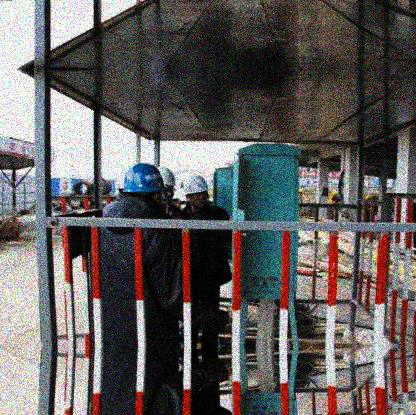helmet: (122, 163, 163, 209), (183, 174, 210, 210), (157, 165, 177, 204)
